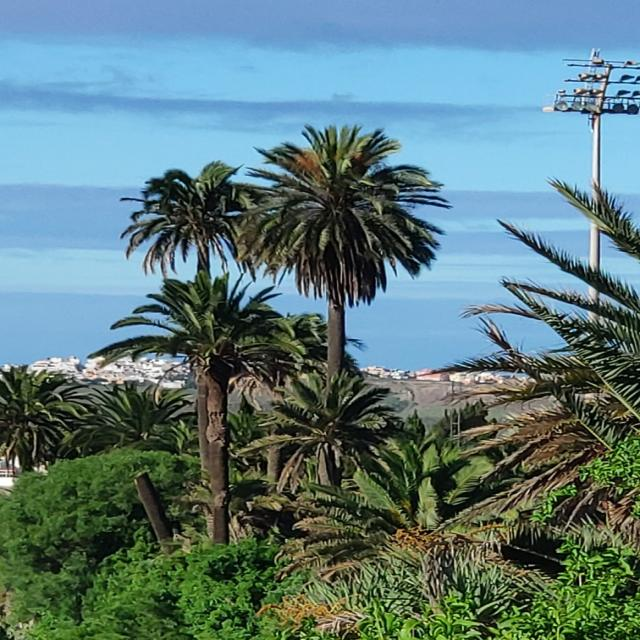Palm-Trees: (232, 120, 451, 480), (108, 270, 310, 549), (126, 156, 256, 490), (253, 365, 415, 502), (0, 364, 92, 483)
